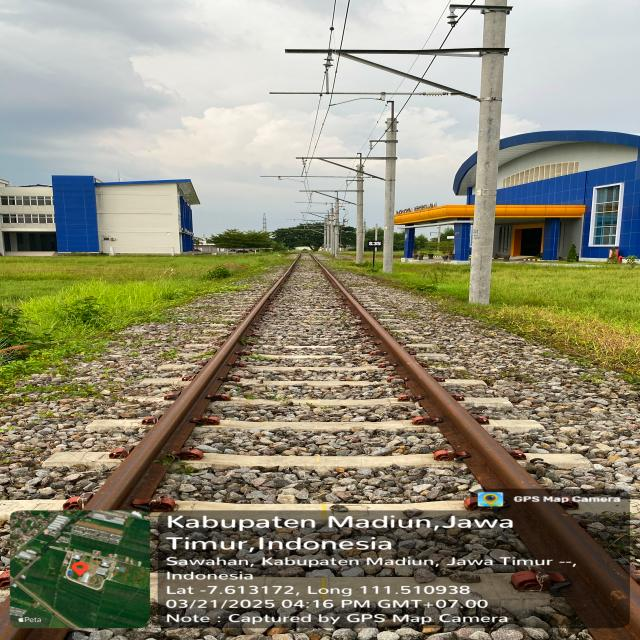rail-detection: (310, 254, 640, 640), (85, 256, 300, 510)
